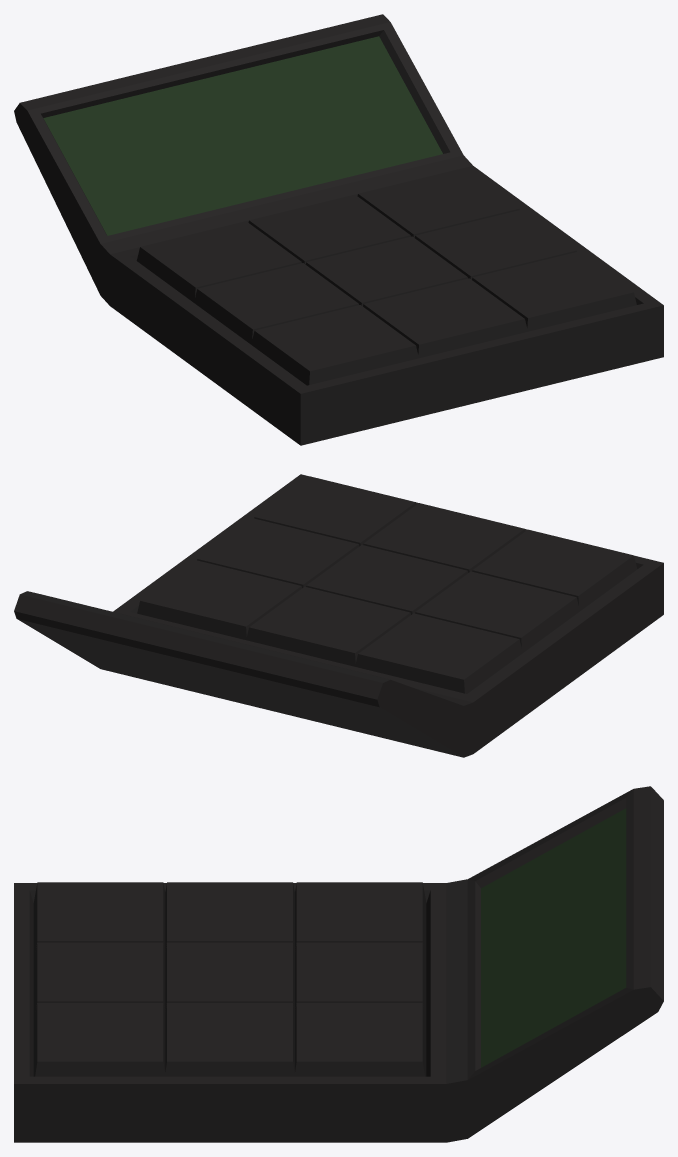
The model's file is calculator.glb.
The picture shows the model from 3 angles, top to bottom: view 1: azimuth 30°, elevation 25°; view 2: azimuth 150°, elevation 25°; view 3: azimuth 270°, elevation 25°; orthographic projection. The views are drawn at different scales.
Visible parts, largest first — view 1: Cube.006; view 2: Cube.006; view 3: Cube.006.
Boxes of the visible parts, x1=… form: Cube.006: x1=14, y1=14, x2=663, y2=445; Cube.006: x1=14, y1=474, x2=663, y2=757; Cube.006: x1=14, y1=786, x2=663, y2=1142.
Bounding box in the file's own units: 2.2 × 0.7947 × 3.01.
